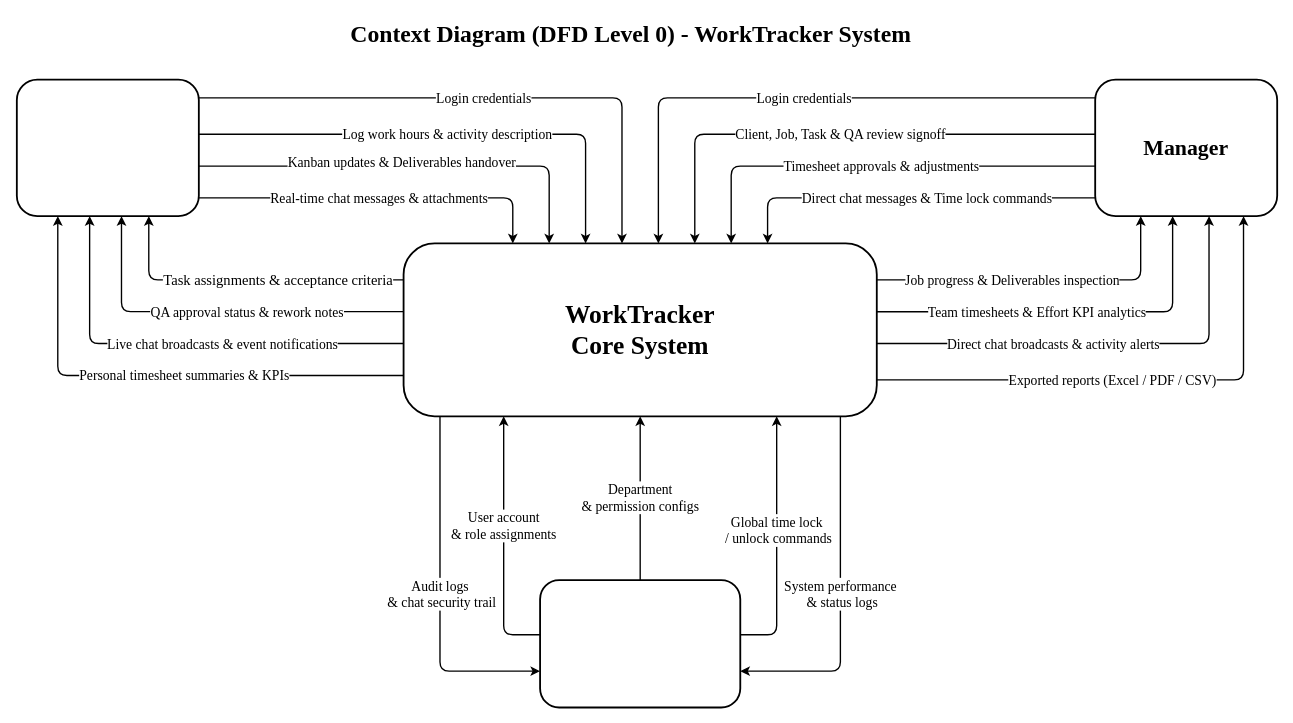
Image size: 1293x723. Some labels were removed from this diagram. The box of each missing label's shape, as (x1, y1, x2, y2) in pixels:
Administrator: (539, 579, 741, 708)
Employee: (15, 78, 199, 217)
